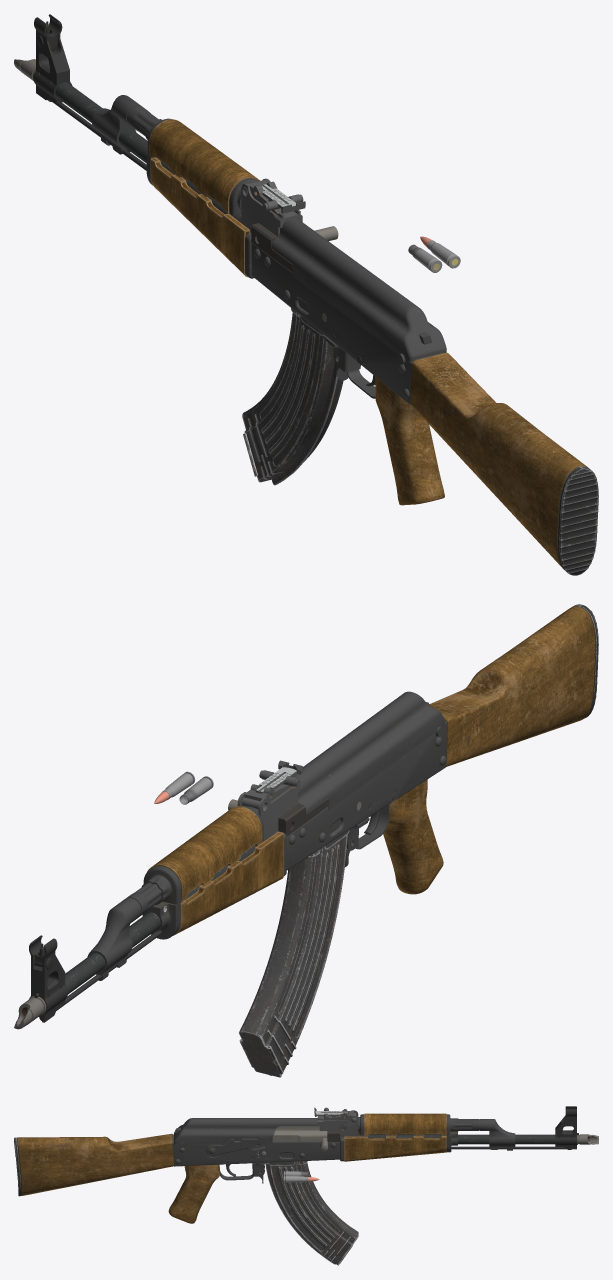
The model's file is ak-47_assault_rifle (1).glb.
The picture shows the model from 3 angles, top to bottom: view 1: azimuth 30°, elevation 25°; view 2: azimuth 150°, elevation 25°; view 3: azimuth 270°, elevation 25°; orthographic projection. The views are drawn at different scales.
Visible parts, largest first — view 1: stock_low, reciever_low, magazine, handgrip_low, Barrel g3_low, upper handgaurd_low, lower handgaurd_low, handgaurd retainer g3_low, rear sight block_low; view 2: reciever_low, stock_low, magazine, Barrel g3_low, upper handgaurd_low, handgaurd retainer g3_low, handgrip_low, lower handgaurd_low, rear sight block_low; view 3: stock_low, reciever_low, magazine, Barrel g3_low, lower handgaurd_low, upper handgaurd_low, handgrip_low, handgaurd retainer g3_low, rear sight block_low, bolt carrier, reciever_low.002.
Boxes of the visible parts, x1=… form: stock_low: x1=410, y1=352, x2=598, y2=575; reciever_low: x1=251, y1=217, x2=446, y2=405; magazine: x1=242, y1=308, x2=343, y2=485; handgrip_low: x1=375, y1=377, x2=444, y2=505; Barrel g3_low: x1=14, y1=14, x2=241, y2=222; upper handgaurd_low: x1=149, y1=119, x2=260, y2=213; lower handgaurd_low: x1=150, y1=157, x2=253, y2=278; handgaurd retainer g3_low: x1=91, y1=95, x2=258, y2=215; rear sight block_low: x1=241, y1=178, x2=305, y2=236; reciever_low: x1=278, y1=691, x2=447, y2=870; stock_low: x1=429, y1=604, x2=598, y2=766; magazine: x1=239, y1=830, x2=349, y2=1077; Barrel g3_low: x1=14, y1=845, x2=256, y2=1029; upper handgaurd_low: x1=147, y1=806, x2=262, y2=900; handgaurd retainer g3_low: x1=87, y1=805, x2=263, y2=980; handgrip_low: x1=383, y1=779, x2=443, y2=894; lower handgaurd_low: x1=173, y1=831, x2=286, y2=935; rear sight block_low: x1=237, y1=760, x2=302, y2=846; stock_low: x1=14, y1=1133, x2=173, y2=1196; reciever_low: x1=172, y1=1118, x2=339, y2=1180; magazine: x1=265, y1=1161, x2=358, y2=1265; Barrel g3_low: x1=358, y1=1106, x2=598, y2=1149; lower handgaurd_low: x1=340, y1=1132, x2=446, y2=1161; upper handgaurd_low: x1=364, y1=1113, x2=446, y2=1135; handgrip_low: x1=168, y1=1164, x2=219, y2=1223; handgaurd retainer g3_low: x1=357, y1=1114, x2=515, y2=1152; rear sight block_low: x1=314, y1=1107, x2=358, y2=1137; bolt carrier: x1=272, y1=1126, x2=327, y2=1151; reciever_low.002: x1=205, y1=1137, x2=272, y2=1156.
Size of the model in its own units: 0.1477 by 0.2677 by 0.9077.
Materials: 11 (11 with a texture image).
